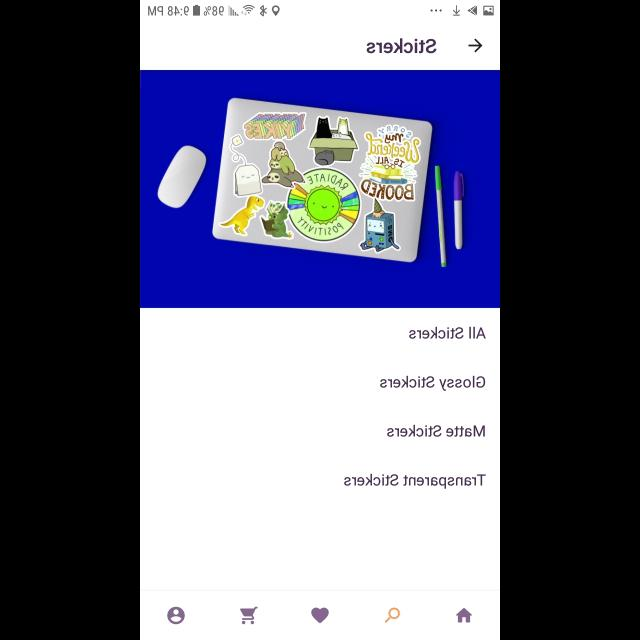icon: (167, 607, 185, 625), (240, 607, 258, 625), (311, 607, 329, 623), (384, 607, 400, 623), (455, 608, 471, 624), (468, 39, 482, 53)
image: (140, 71, 500, 309)
text: (343, 474, 485, 490), (380, 375, 484, 391), (387, 424, 485, 438), (366, 38, 436, 54), (408, 326, 486, 339)
uppertaskbar: (140, 1, 500, 18)
